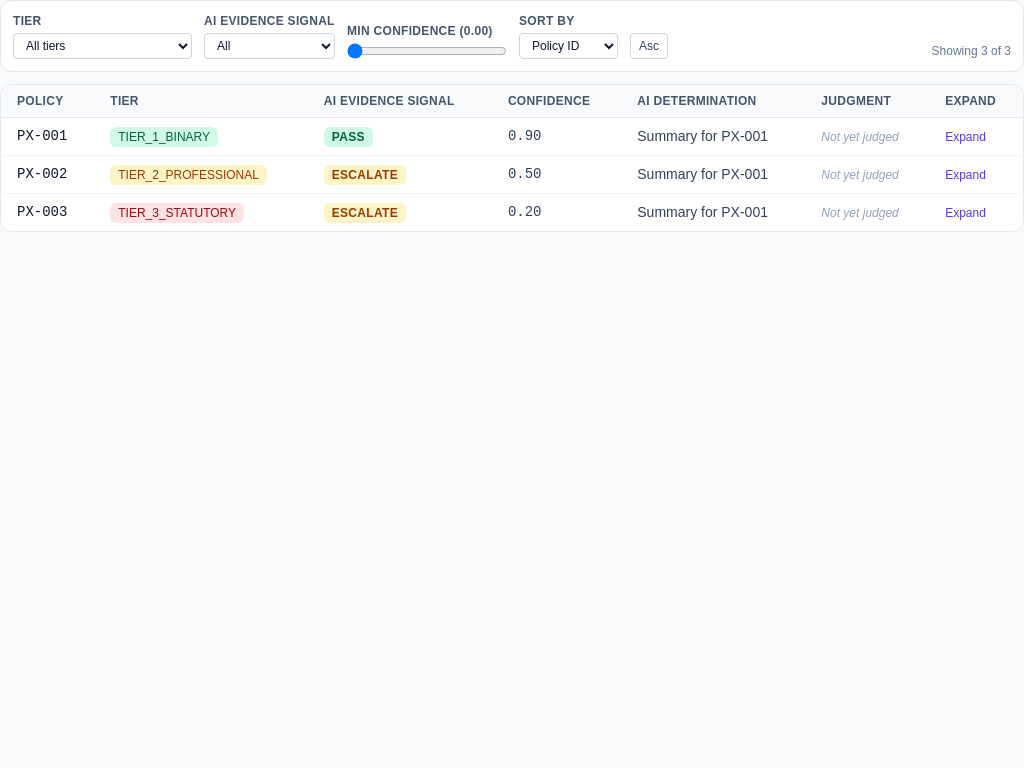
Test: PerPolicyResultsTable expand panel › shows evidence + pathway rendering when expanded
The width and height of the screenshot is (1024, 768).
Expected: the row with test id "per-policy-row" that starts with "PX-001" is shown, [1,118,1023,156]
Click the button with test id "per-policy-expand-toggle" in the row of "TIER_1_BINARY" at (965, 137), box [945,129,986,145]
(page scrolled)
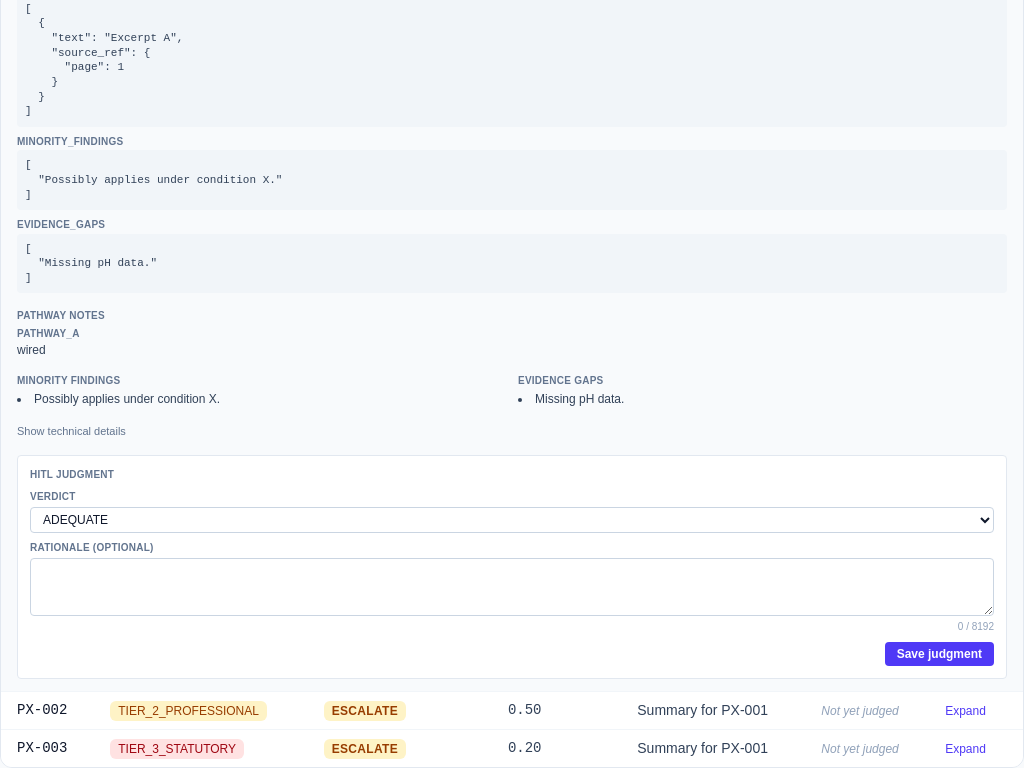
Expected: the element with test id "per-policy-pathway-notes" is shown, [17,328,80,357]
Expected: the list with test id "per-policy-minority-findings" is shown, [34,392,220,406]
Expected: the list with test id "per-policy-evidence-gaps" is shown, [535,392,624,406]
Click the button with test id "per-policy-tech-details-toggle" at (71, 432), box [17,424,126,439]
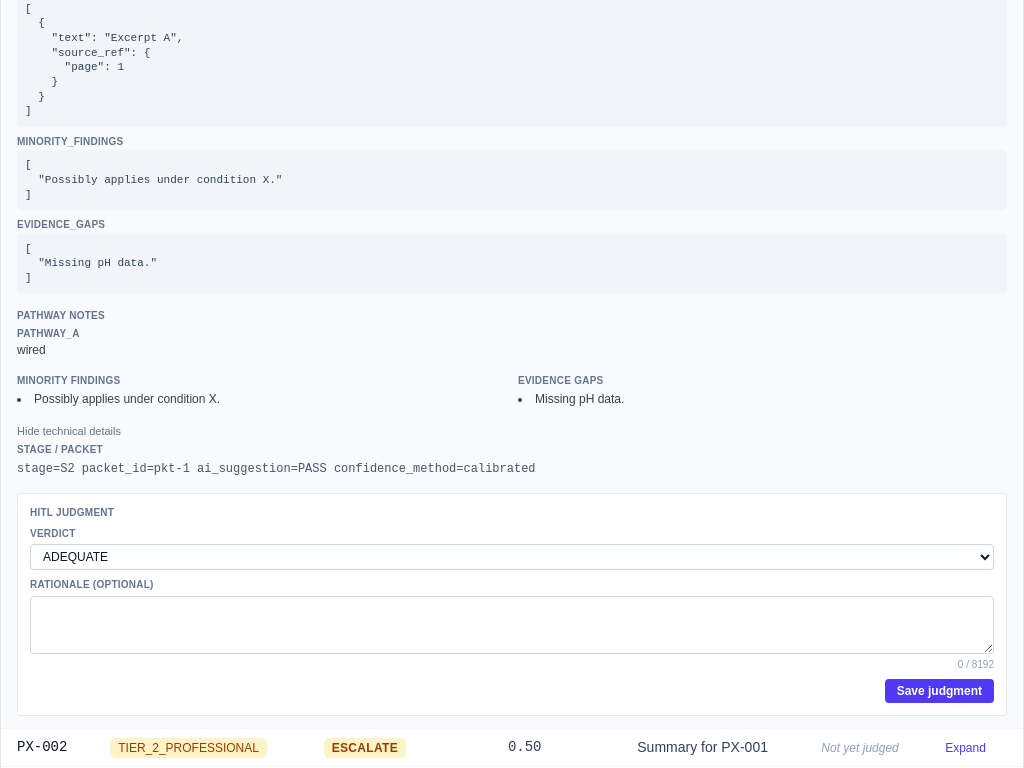
Expected: the text with test id "per-policy-stage-info" shows "stage=S2", [17,462,536,476]
